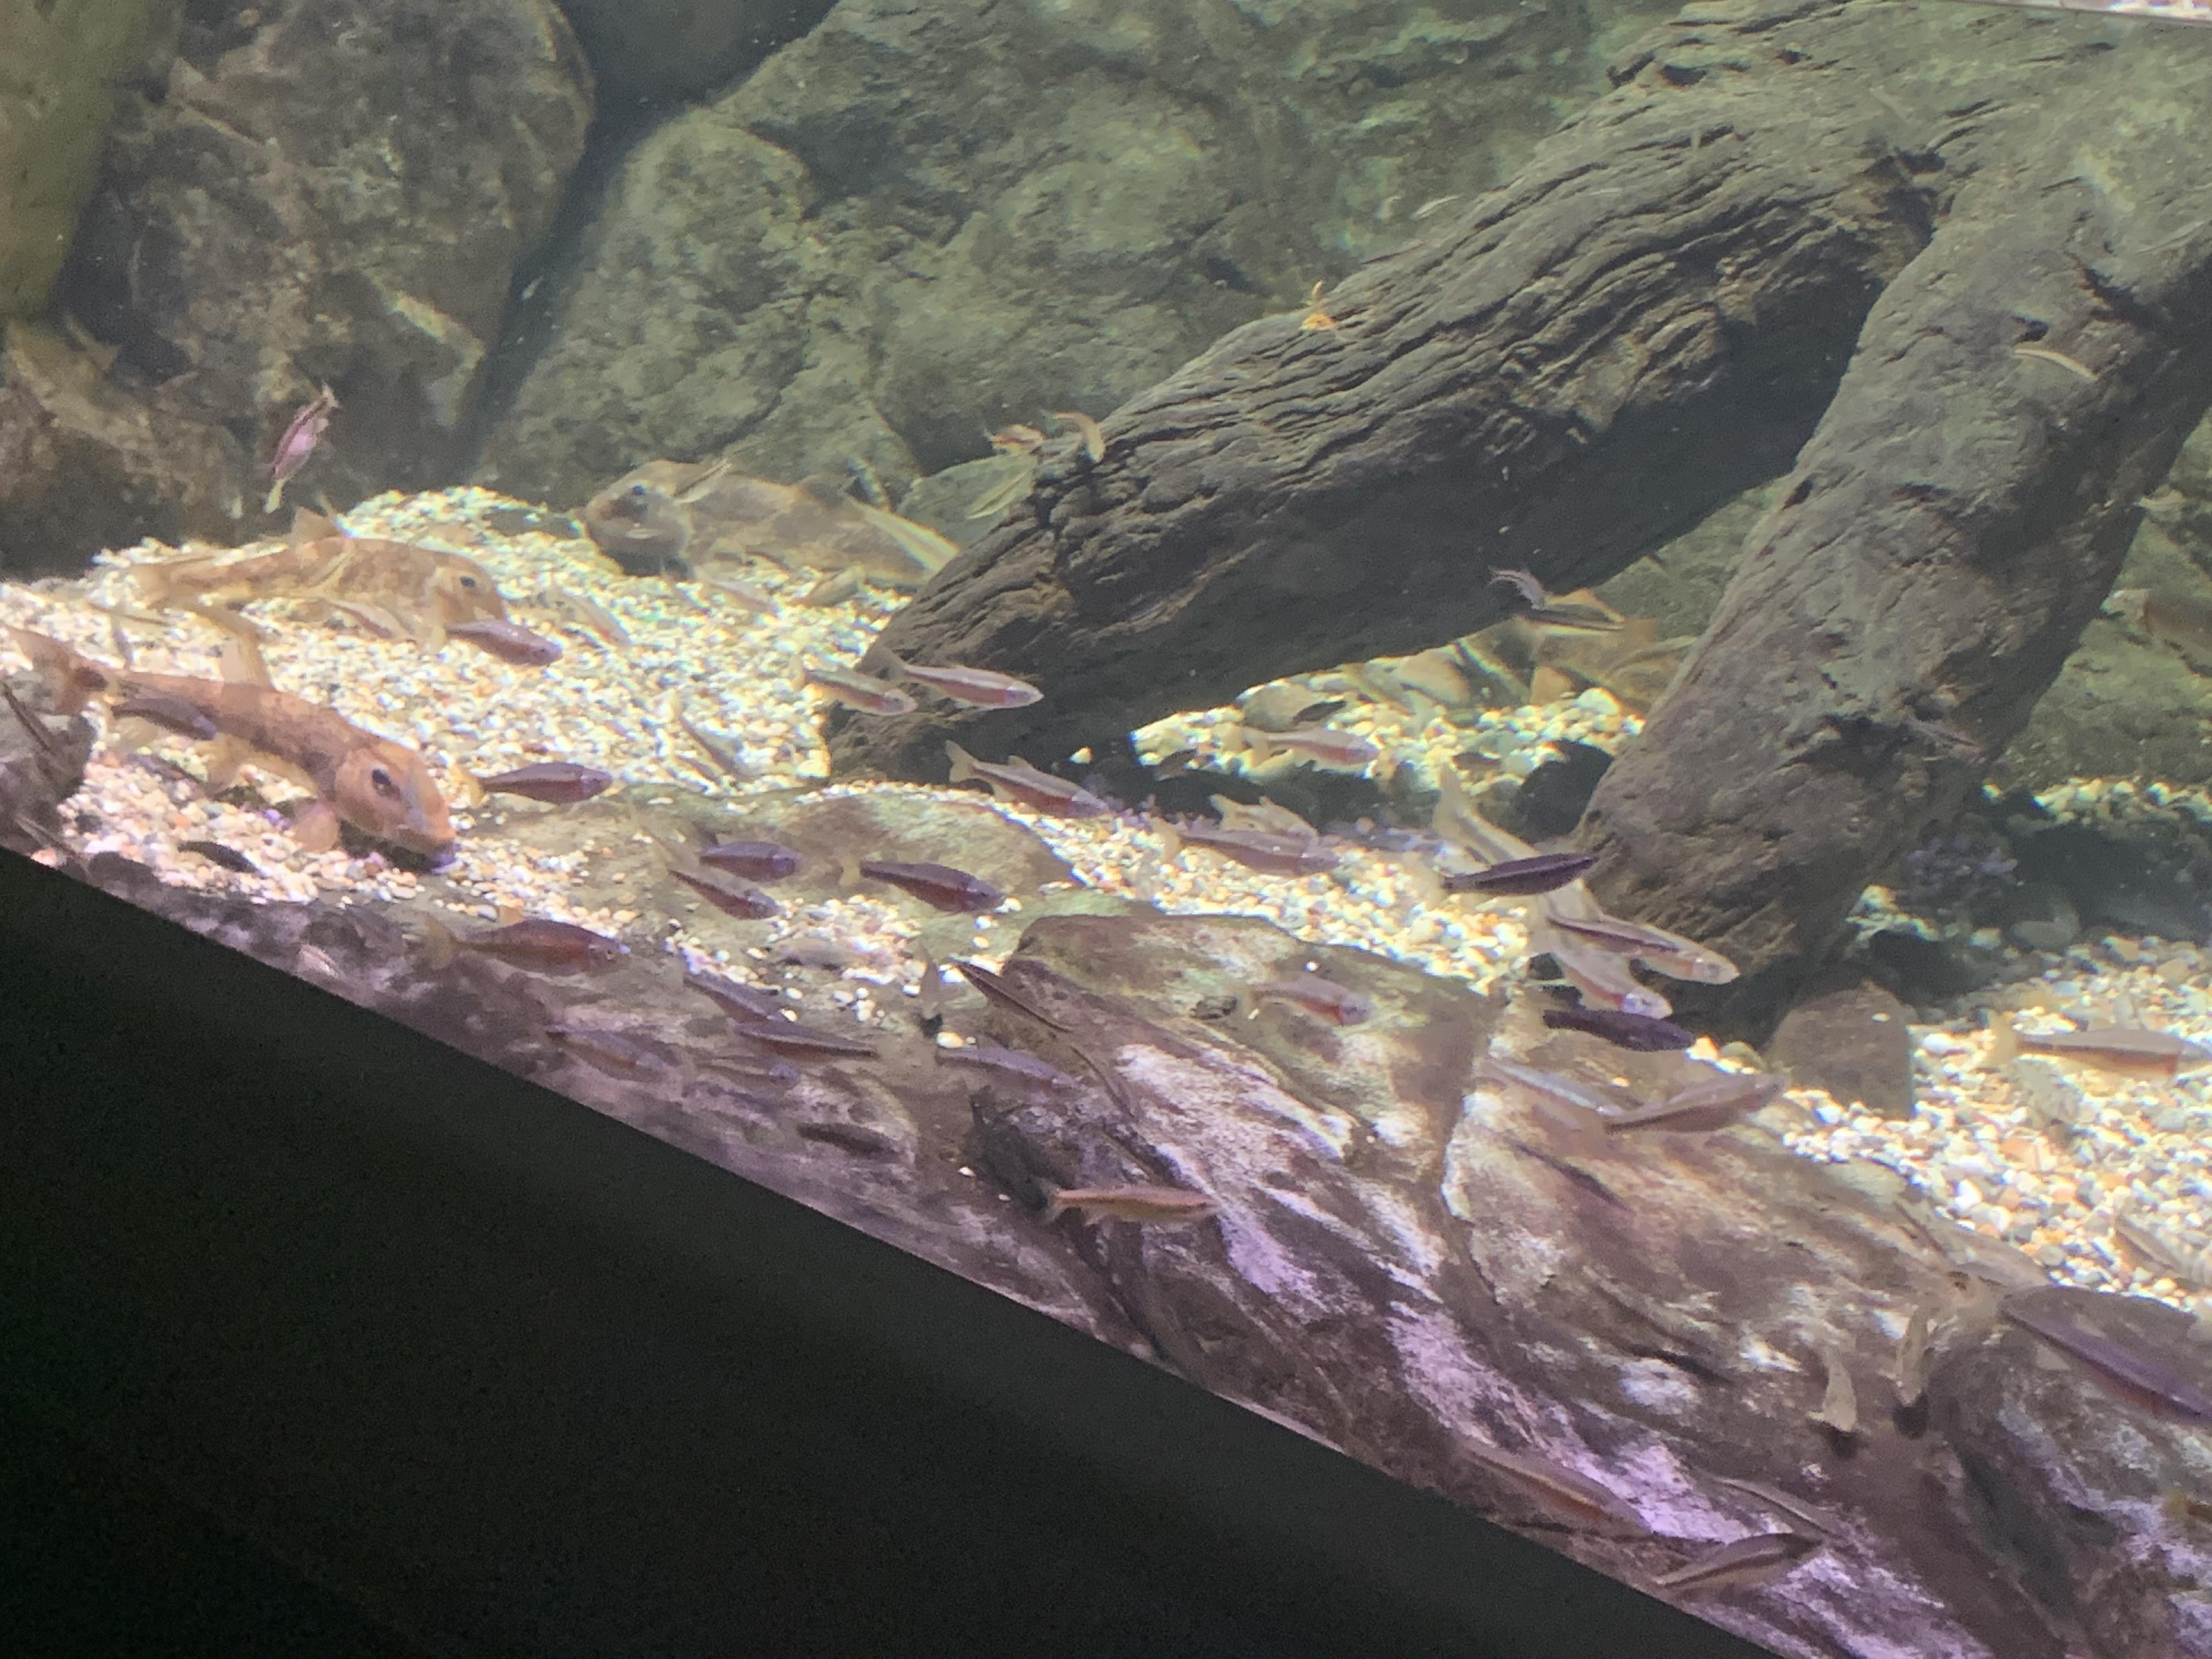fish: (10, 608, 502, 882), (118, 477, 561, 674), (583, 453, 977, 598), (1470, 1412, 1752, 1584), (1420, 756, 1611, 927), (1534, 1047, 1822, 1159), (1526, 871, 1768, 997), (1493, 903, 1719, 1032), (2003, 997, 2212, 1115), (413, 904, 639, 990), (935, 953, 1129, 1053), (697, 983, 897, 1079), (1157, 793, 1355, 889), (1230, 681, 1395, 788), (1641, 1520, 1825, 1612), (930, 732, 1096, 831), (874, 638, 1057, 721), (1029, 1169, 1223, 1243), (852, 843, 1003, 932), (1428, 836, 1615, 906), (639, 843, 786, 925), (685, 810, 815, 901), (254, 371, 345, 495), (1879, 1279, 1956, 1419), (540, 1021, 672, 1096), (1792, 1319, 1869, 1448), (782, 650, 914, 723), (524, 572, 639, 655), (418, 608, 568, 669), (2003, 1051, 2106, 1136), (665, 960, 787, 1032), (451, 753, 617, 805), (1235, 967, 1372, 1028), (2092, 1197, 2179, 1291), (1205, 791, 1317, 850), (956, 460, 1038, 523), (1036, 404, 1108, 465), (1480, 556, 1550, 617), (979, 422, 1047, 460), (1148, 744, 1204, 789)
